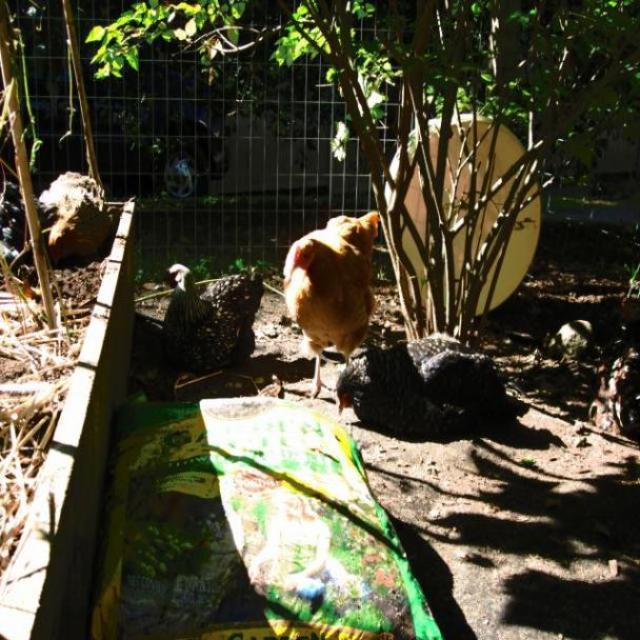Chicken: (285, 208, 383, 405), (161, 261, 264, 387)
